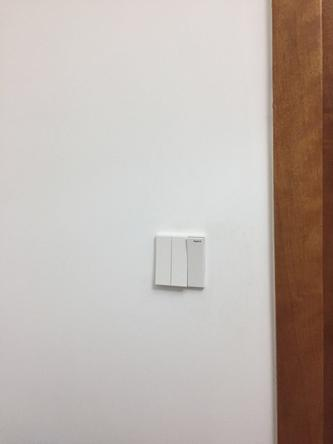switch: (194, 236, 208, 294), (173, 237, 186, 287), (157, 233, 165, 279)
